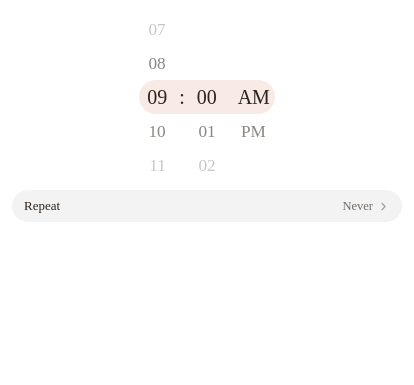
Test: AlertScheduleHeader › shows a day-of-month stepper only for Monthly
(page scrolled)
expect the text "Day of month" is not shown: met
Click the text "Repeat" at (42, 206), box x1=24 y1=198 x2=60 y2=214
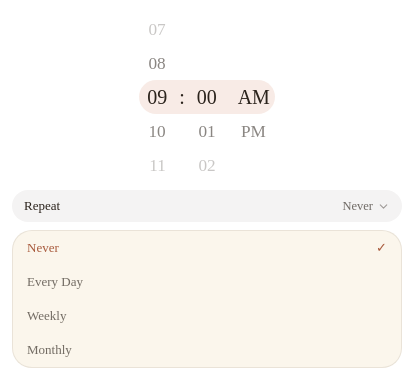
Click the button labelled "Monthly" at (49, 350), box x1=13 y1=333 x2=401 y2=367
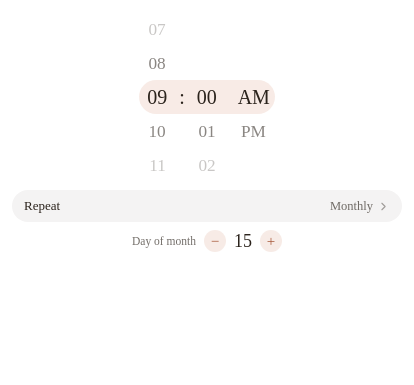
expect the text "Day of month" is shown: met, box x1=132 y1=235 x2=196 y2=247
expect the text named "day of month: 15" is shown: met, box x1=234 y1=230 x2=252 y2=250
Click the button named "Increase day of month" at (271, 241), box x1=260 y1=230 x2=282 y2=252
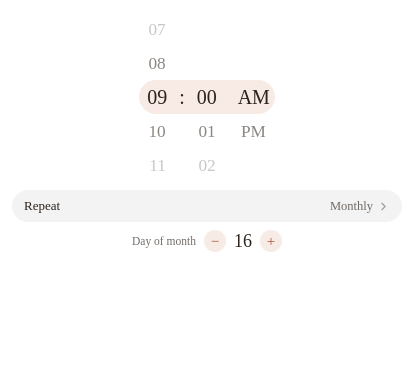
expect the text named "day of month: 16" is shown: met, box x1=234 y1=230 x2=252 y2=250
